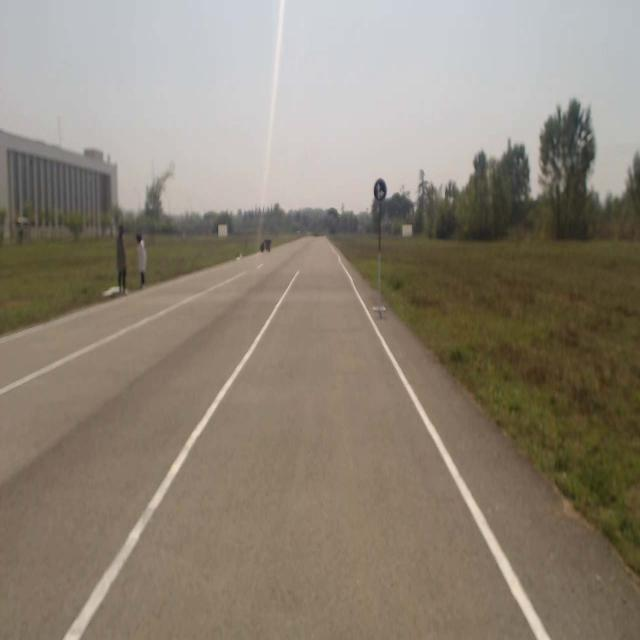ilerisag: (374, 180, 386, 200)
